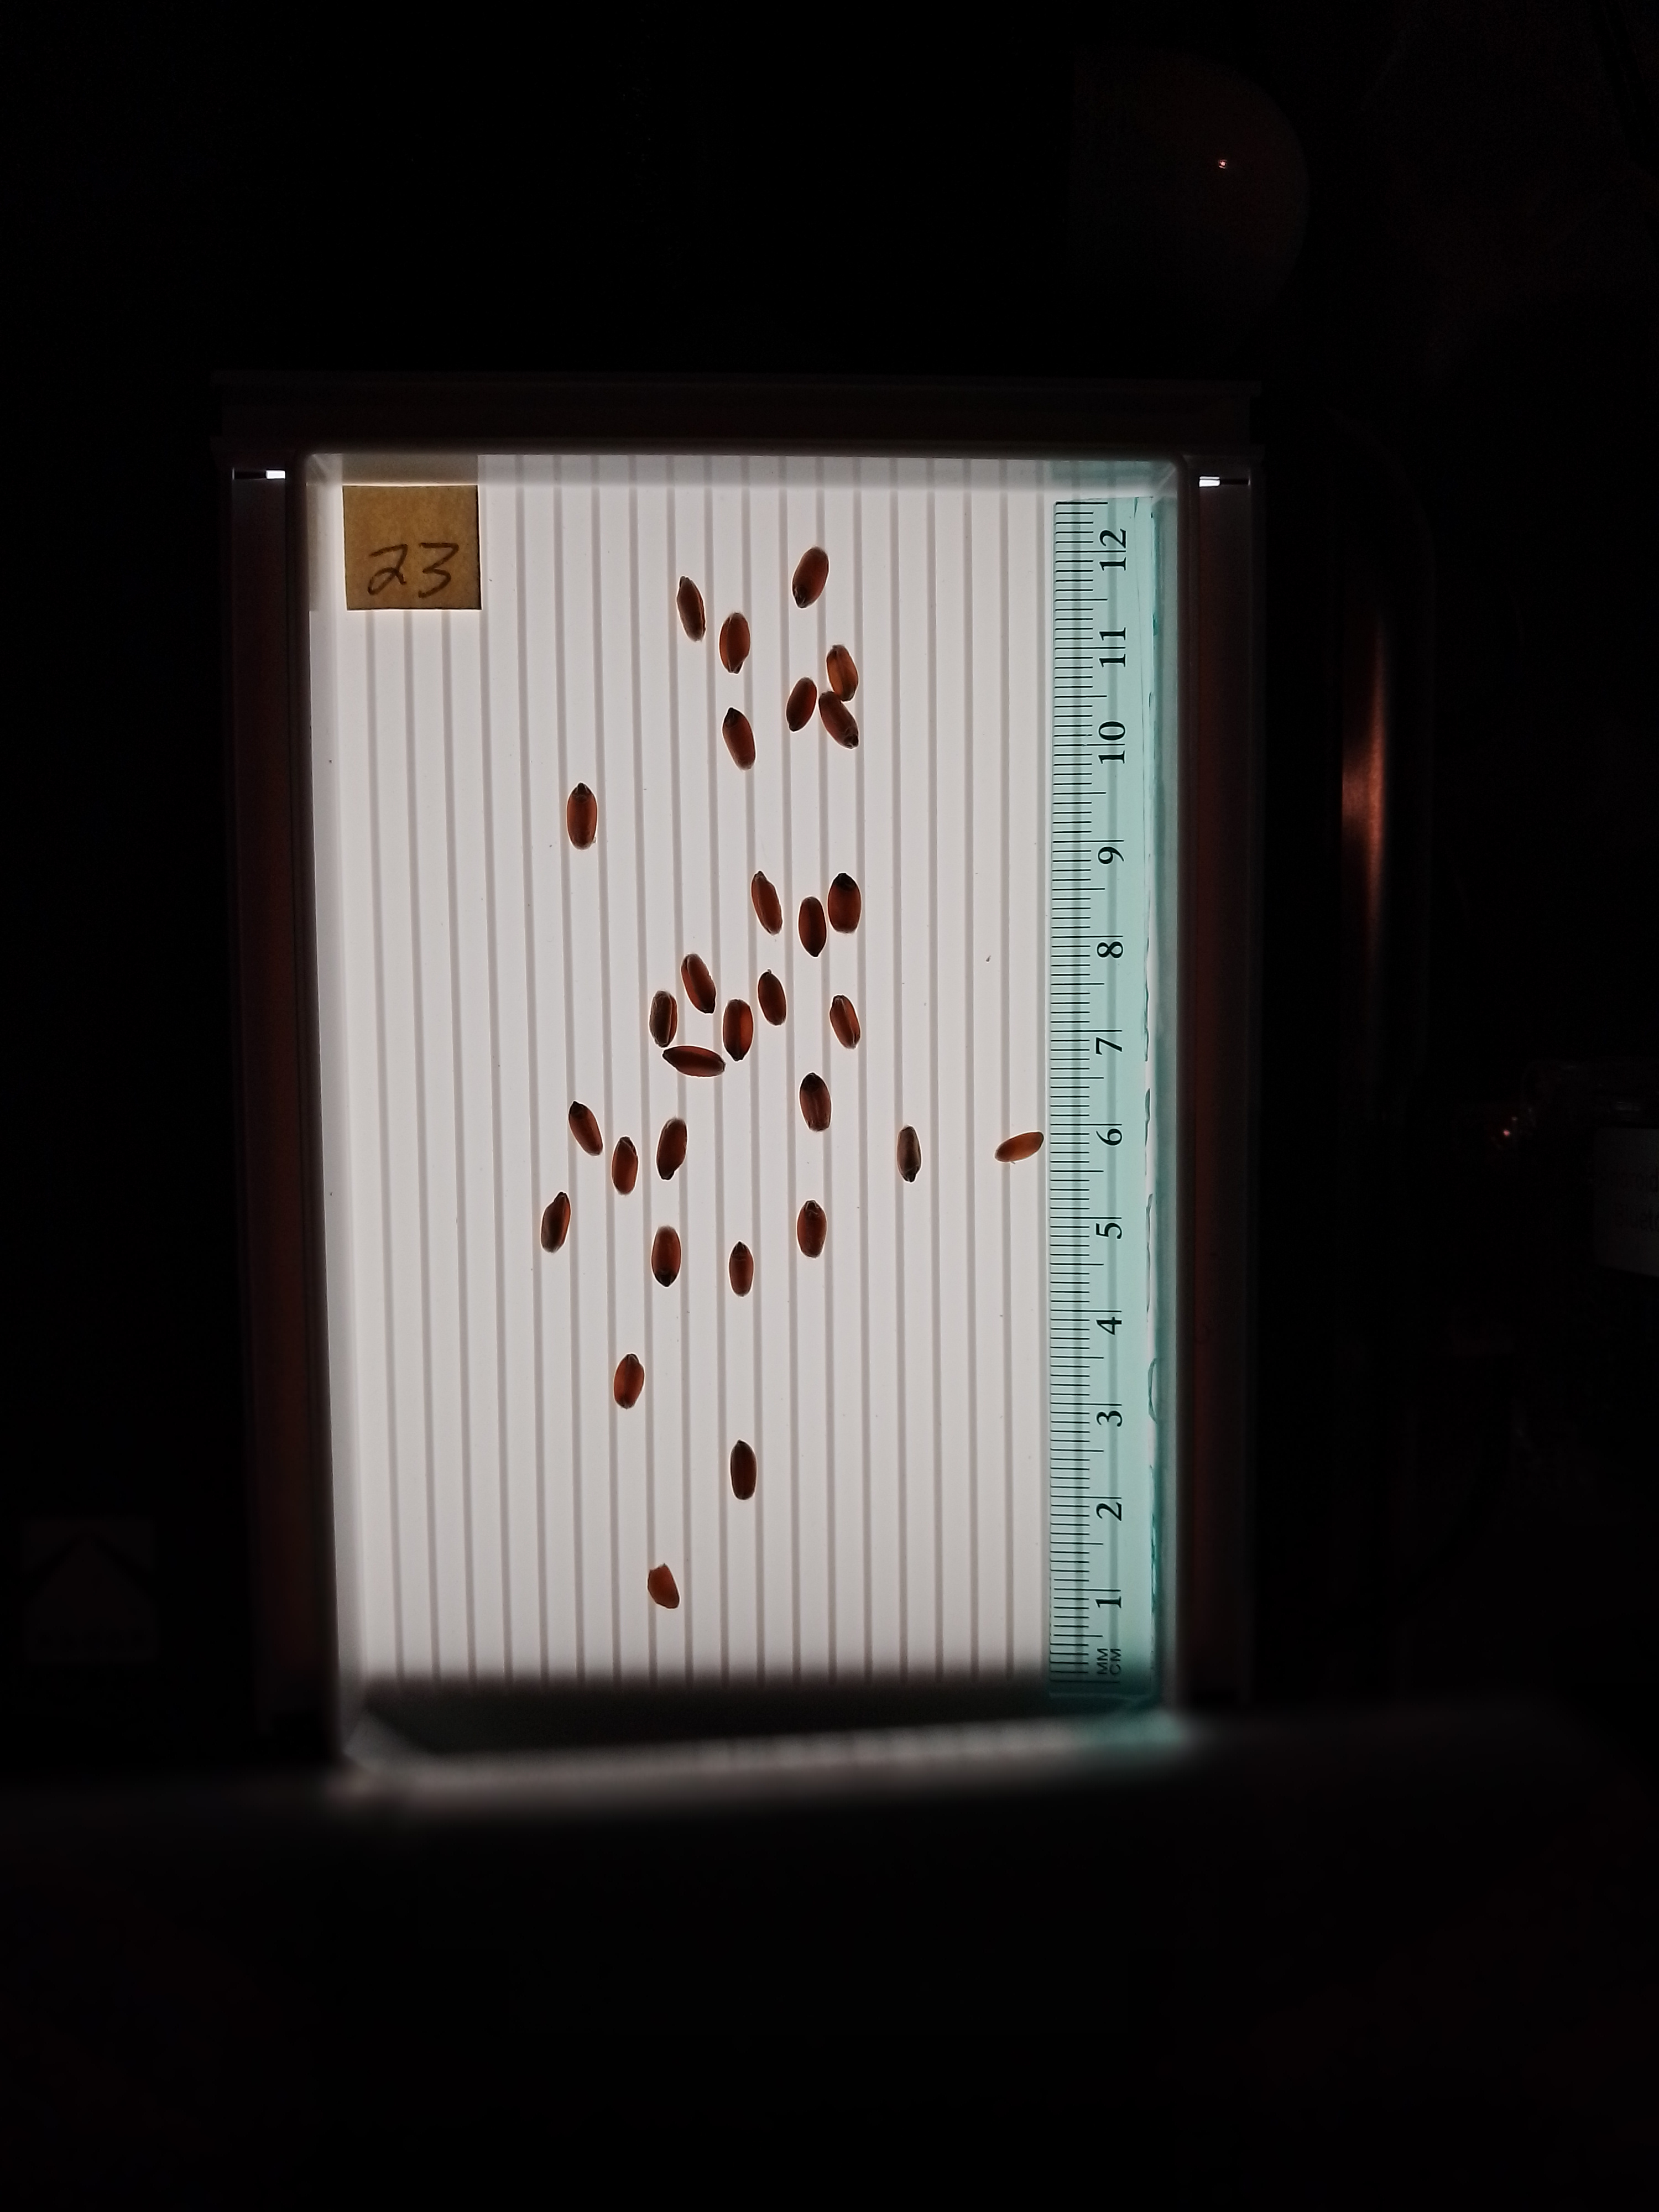seed mask: (791, 545, 831, 608), (819, 691, 859, 749), (826, 873, 863, 934), (680, 954, 716, 1014), (723, 707, 756, 772), (566, 782, 598, 850), (568, 1101, 605, 1155), (657, 1118, 688, 1181), (798, 1073, 831, 1132), (676, 577, 706, 643), (718, 613, 751, 672), (721, 1000, 753, 1061), (652, 1226, 681, 1289), (662, 1047, 725, 1076), (753, 873, 782, 935), (540, 1191, 570, 1252), (728, 1440, 758, 1501), (826, 644, 857, 702), (798, 897, 828, 956), (796, 1200, 826, 1259), (786, 676, 817, 732), (612, 1355, 645, 1407), (648, 991, 678, 1049), (830, 995, 859, 1049), (612, 1136, 638, 1195), (758, 972, 786, 1026), (896, 1125, 922, 1181), (995, 1132, 1044, 1162), (648, 1564, 680, 1609), (728, 1240, 753, 1298)
